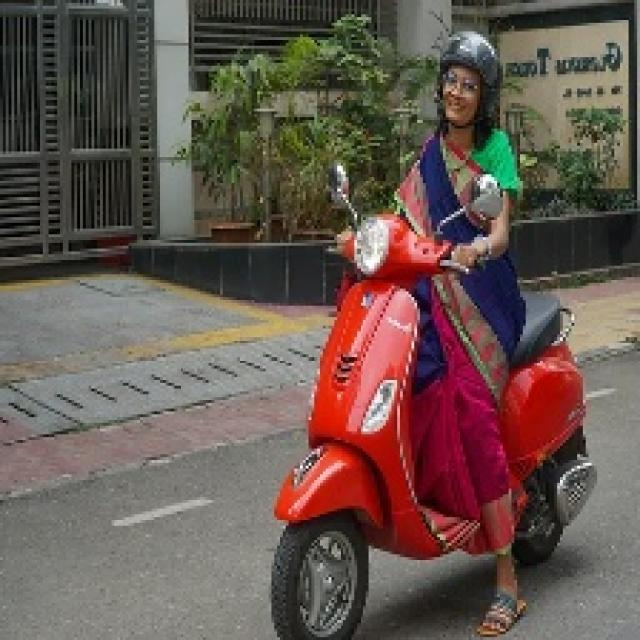bike: (263, 206, 573, 621)
